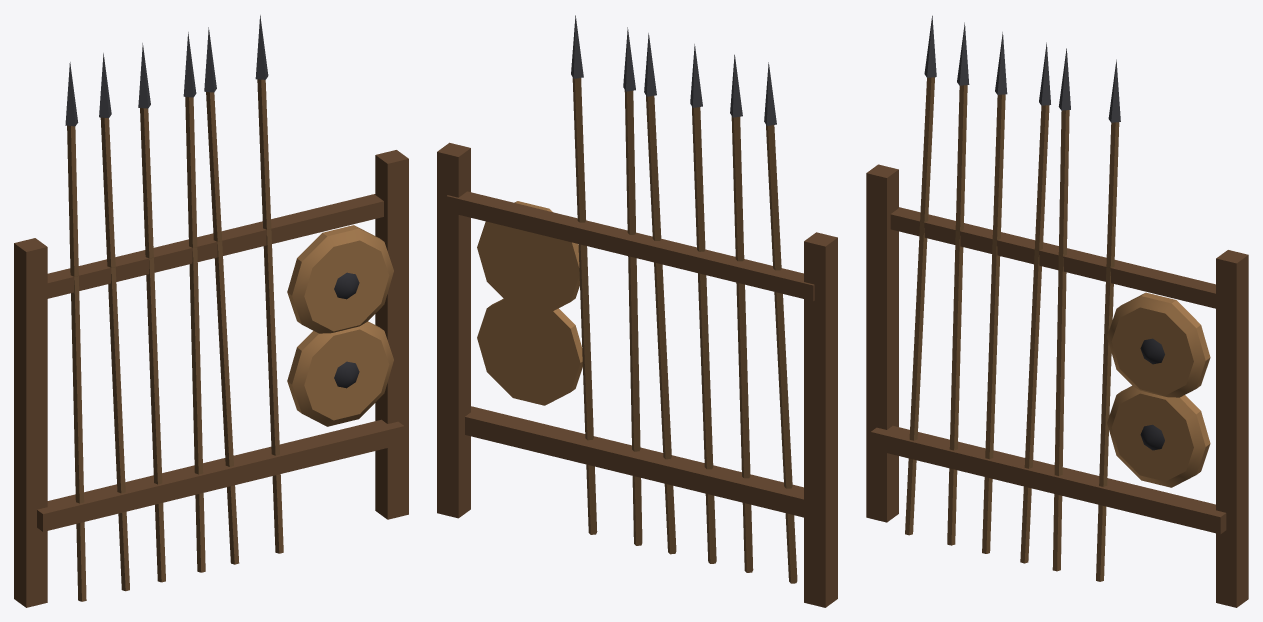
Rendered from WeaponRack.fbx.
3 renders of one model, left to right at view 1: azimuth 30°, elevation 25°; view 2: azimuth 150°, elevation 25°; view 3: azimuth 330°, elevation 25°, orthographic. The views are drawn at different scales.
Parts seen in each view (by area): view 1: WeaponRack; view 2: WeaponRack; view 3: WeaponRack.
Part boxes in pixels (x1,y1,x2,y2): WeaponRack: (14, 15, 408, 607); WeaponRack: (437, 15, 837, 607); WeaponRack: (866, 15, 1248, 607).
Size of the model in its own units: 1.8 by 2.36 by 0.255.
